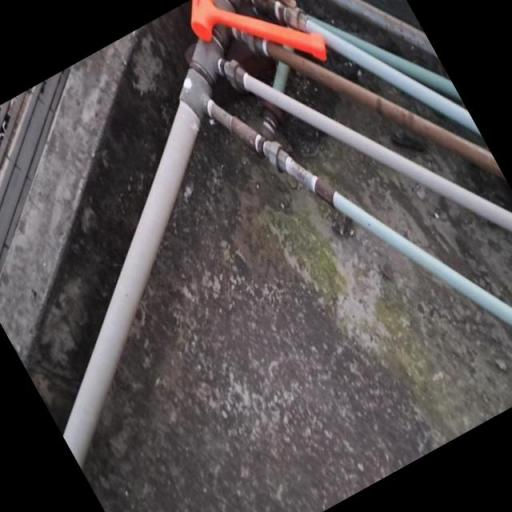mallet: (180, 0, 334, 110)
